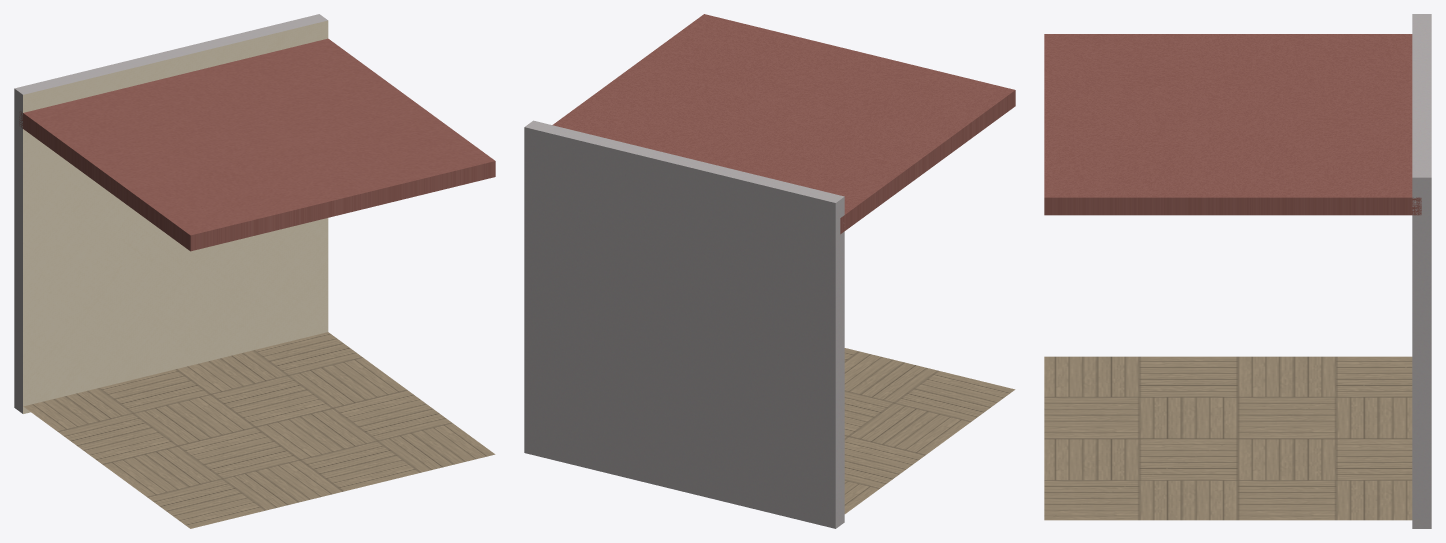
File: house_w1_1.fbx
The picture shows the model from 3 angles, left to right: view 1: azimuth 30°, elevation 25°; view 2: azimuth 150°, elevation 25°; view 3: azimuth 270°, elevation 25°; orthographic projection. The views are drawn at different scales.
Visible parts, largest first — view 1: wall_1.002; view 2: wall_1.002; view 3: wall_1.002.
Boxes of the visible parts, x1,y1,x2,y2 form: wall_1.002: [14, 14, 495, 528]; wall_1.002: [524, 14, 1015, 528]; wall_1.002: [1044, 14, 1431, 528].
Bounding box in the file's own units: 2 × 2 × 2.
Materials: 2 (2 with a texture image).
